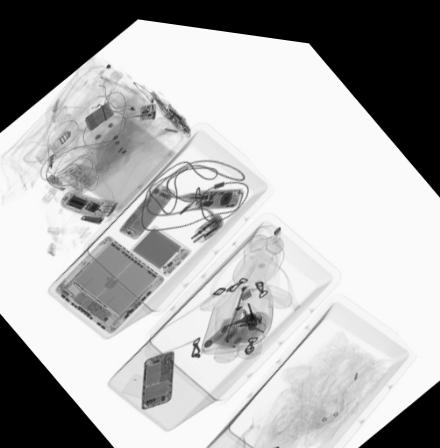Powerbank: (129, 222, 190, 270)
